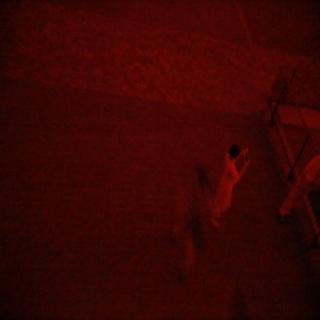person: (211, 135, 250, 240)
